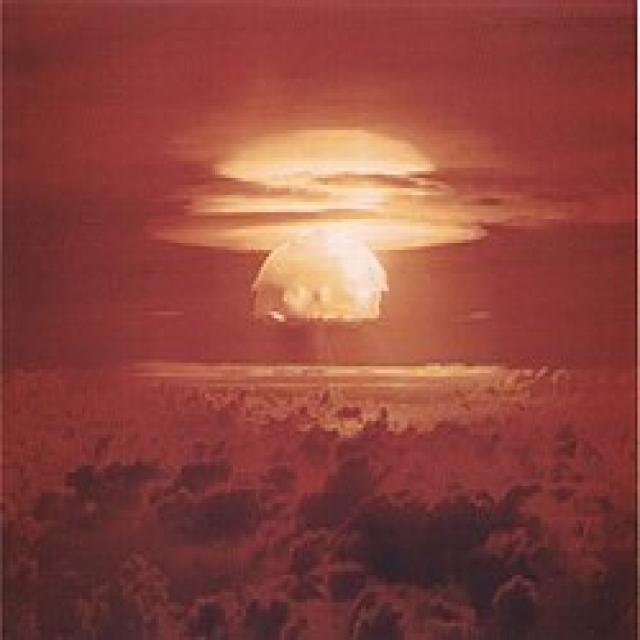explosion: (123, 90, 540, 401)
